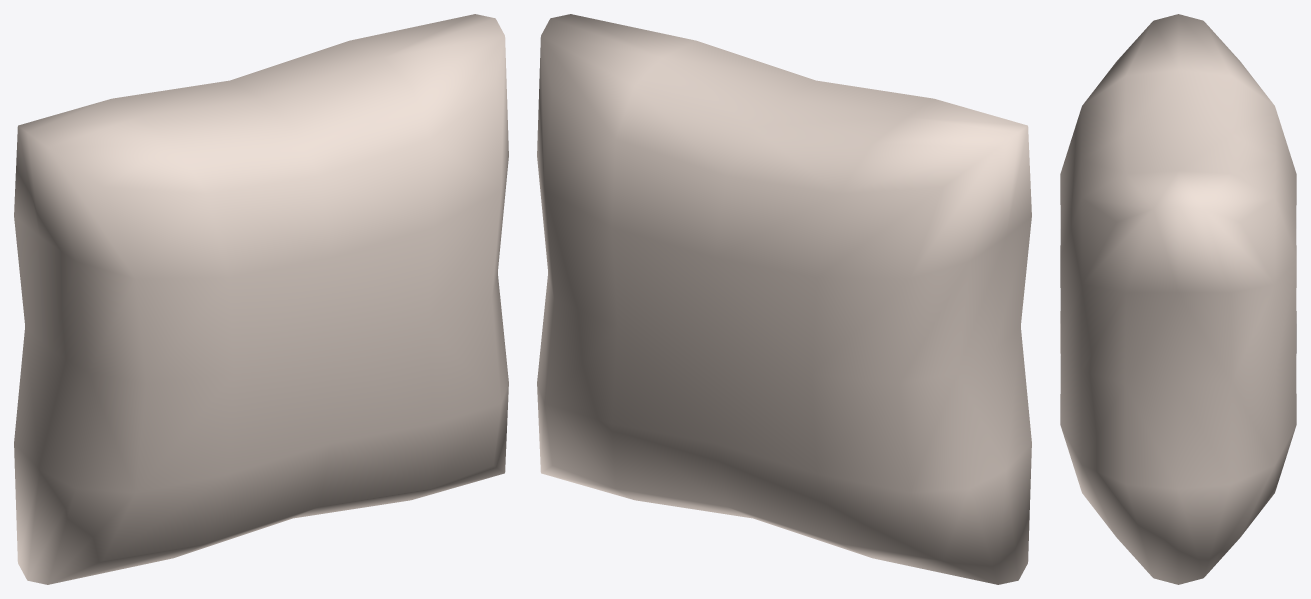
Rendered from Pillow_23.glb.
3 views of the same model, side by side, from view 1: azimuth 30°, elevation 25°; view 2: azimuth 150°, elevation 25°; view 3: azimuth 270°, elevation 25° (orthographic). The views are drawn at different scales.
Parts seen in each view (by area): view 1: Pillow_23; view 2: Pillow_23; view 3: Pillow_23.
Part boxes in pixels (x1,y1,x2,y2): Pillow_23: (14, 14, 508, 584); Pillow_23: (537, 14, 1031, 584); Pillow_23: (1060, 14, 1296, 584).
Size of the model in its own units: 0.4658 by 0.4258 by 0.2414.
1 material, 1 textured.
